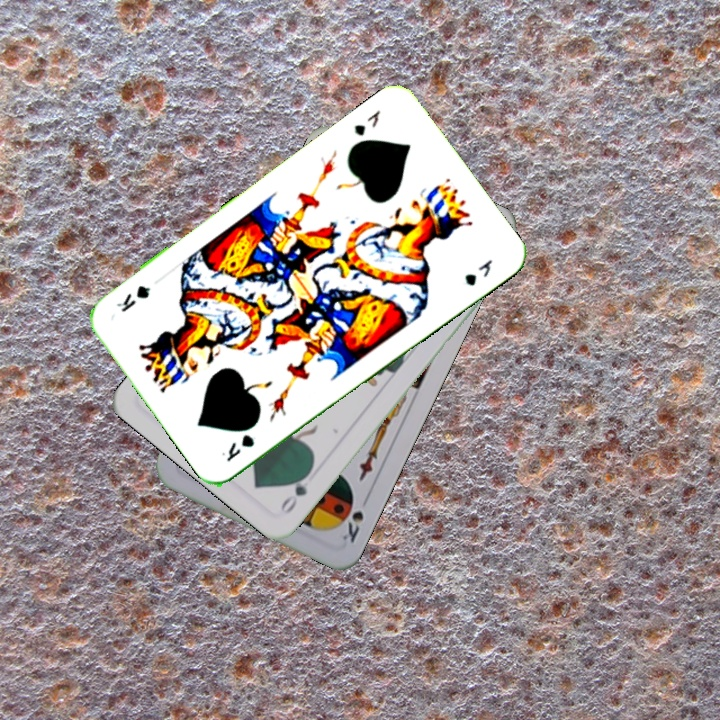GK: (217, 430, 258, 465), (350, 105, 384, 139)
GO: (276, 464, 315, 517)
SK: (338, 507, 366, 546)
